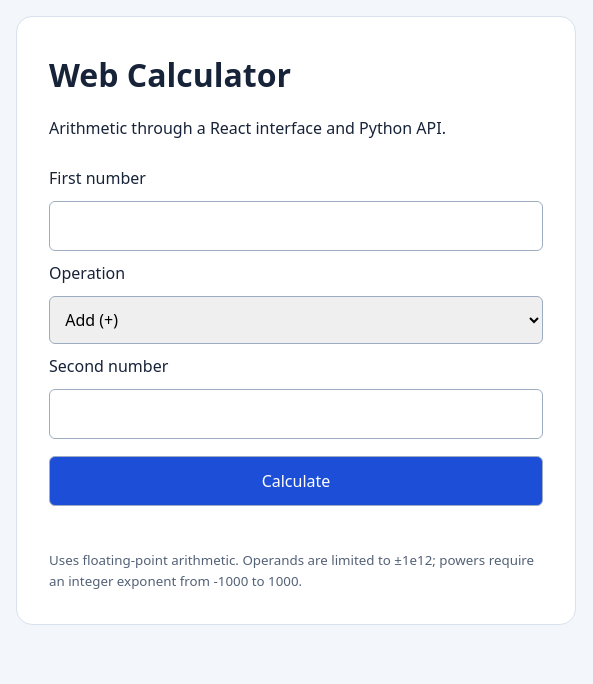
it: clears a previous result when the next calculation fails
Type "1" into the number field labelled "First number" at (296, 226), box [49,201,543,251]
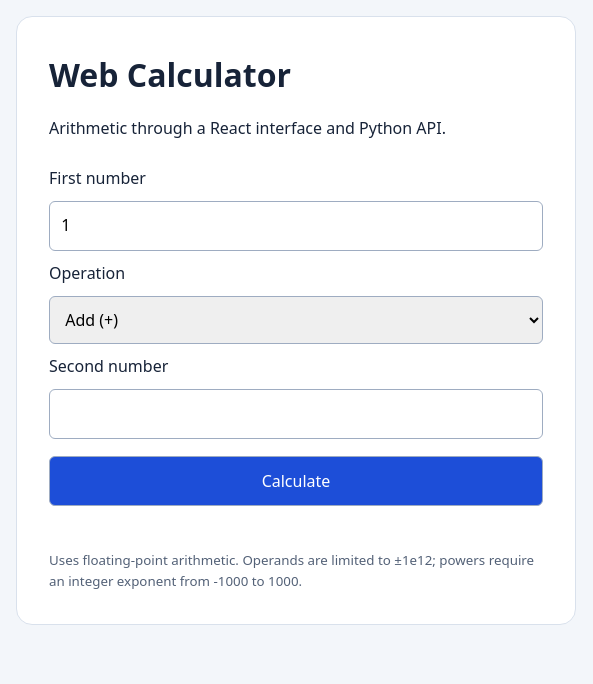
Type "1" into the number field labelled "Second number" at (296, 414), box [49,389,543,439]
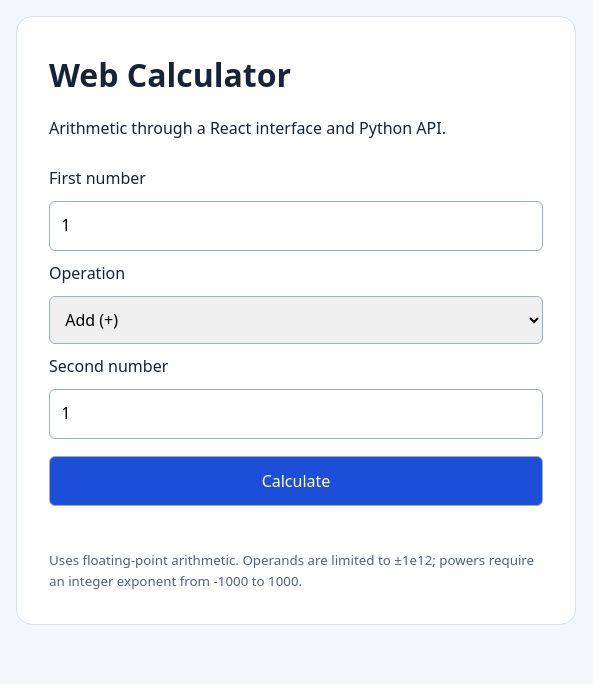
Click the button "Calculate" at (296, 481), box [49,456,543,506]
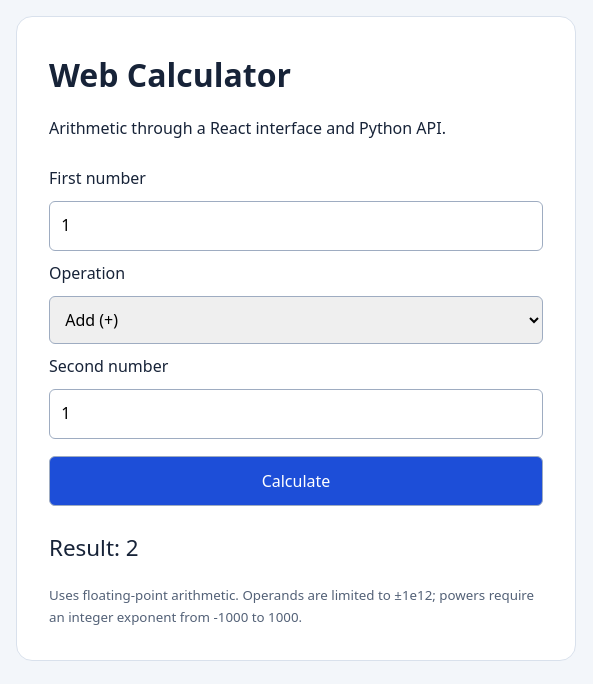
Check: the text "Result: 2" is shown, box [49,532,139,563]
Select "Divide (÷)" in the dropdown labelled "Operation" at (296, 320), box [49,296,543,344]
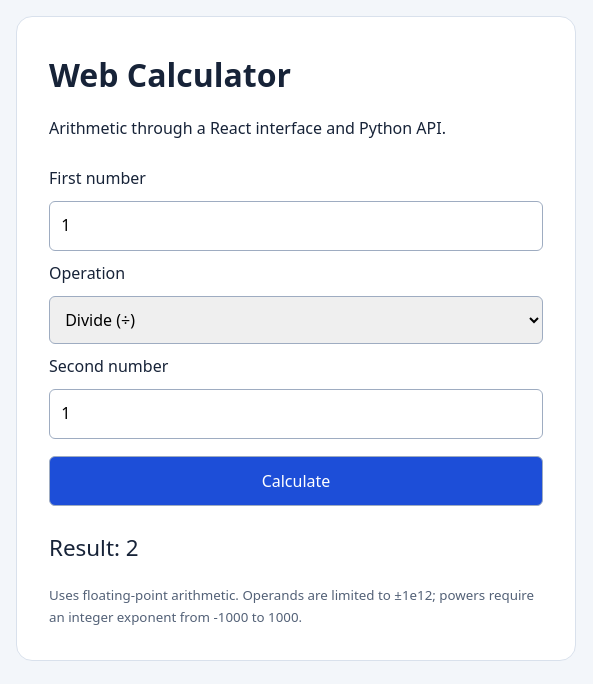
Replace the text in the number field labelled "Second number" with "0" at (296, 414), box [49,389,543,439]
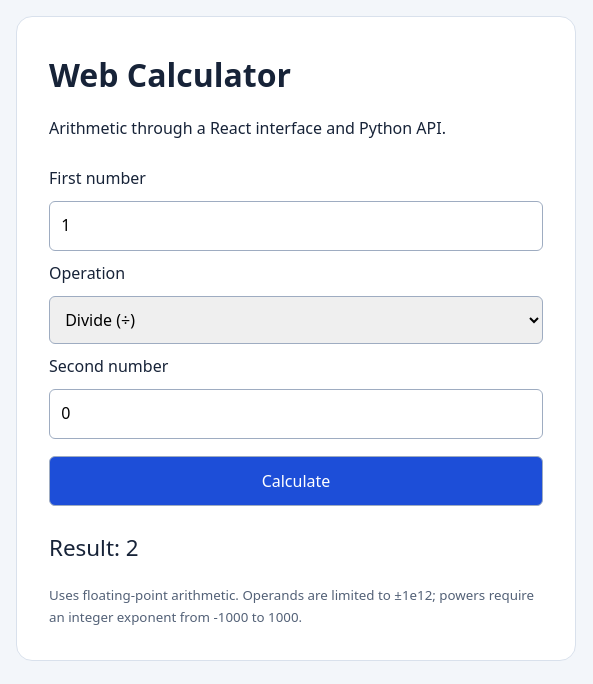
Click the button "Calculate" at (296, 481), box [49,456,543,506]
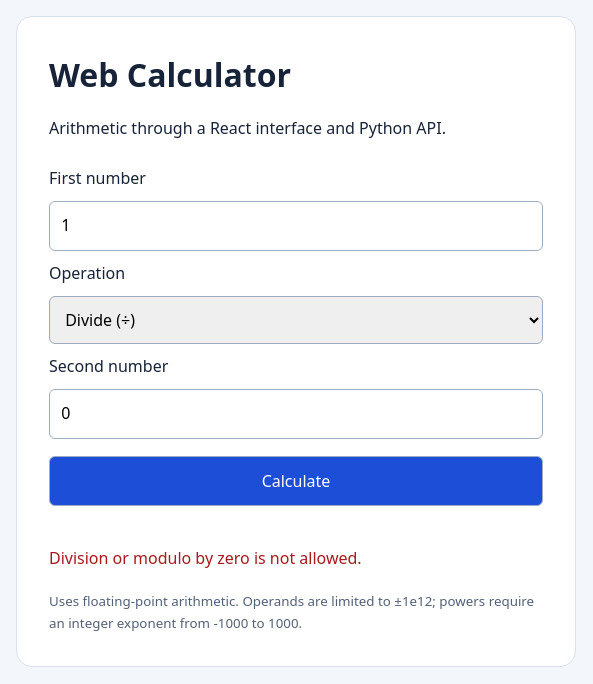
Check: the message shows "zero", box [49,547,362,569]
